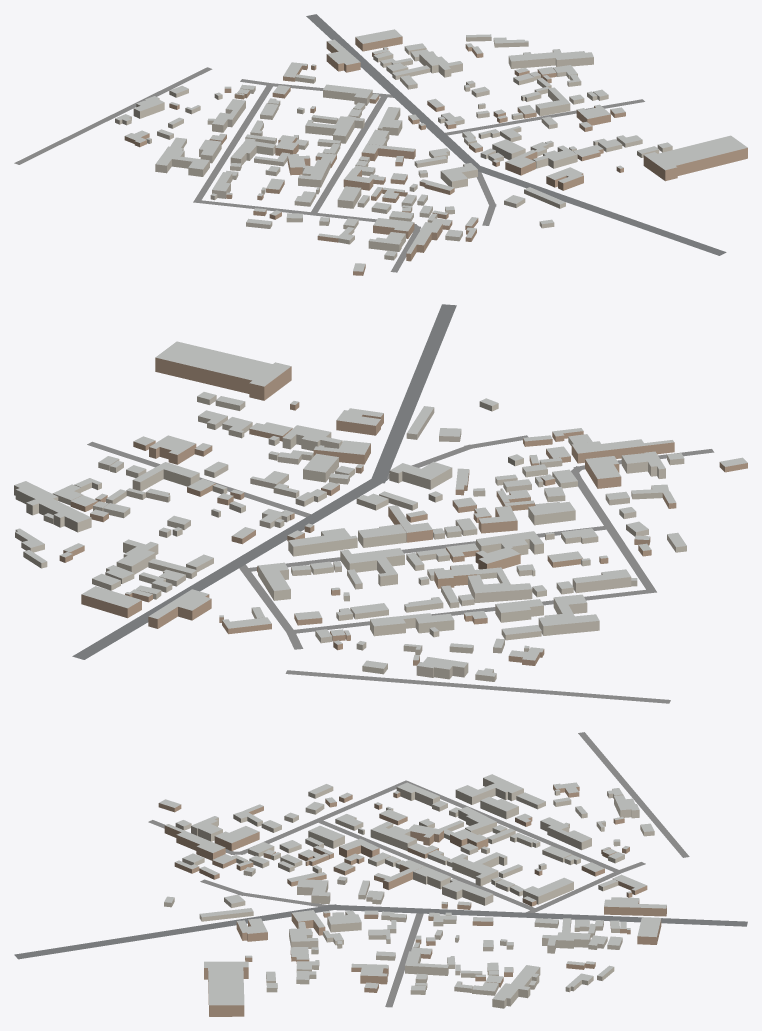
Rendered from bolak_-19_5.glb.
The picture shows the model from 3 angles, top to bottom: view 1: azimuth 30°, elevation 25°; view 2: azimuth 150°, elevation 25°; view 3: azimuth 270°, elevation 25°; orthographic projection. The views are drawn at different scales.
Parts seen in each view (by area): view 1: Tom_Shifer, Devor_Suvoq-col, Devor_Gisht-col, Yol_Mahalla, Yol_Asfalt; view 2: Tom_Shifer, Devor_Suvoq-col, Devor_Gisht-col, Yol_Mahalla, Yol_Asfalt; view 3: Tom_Shifer, Devor_Suvoq-col, Devor_Gisht-col, Yol_Mahalla, Yol_Asfalt.
Boxes of the visible parts, x1,y1,x2,y2 form: Tom_Shifer: [115, 29, 747, 271]; Devor_Suvoq-col: [115, 37, 672, 260]; Devor_Gisht-col: [124, 36, 747, 275]; Yol_Mahalla: [14, 67, 644, 272]; Yol_Asfalt: [306, 14, 726, 255]; Tom_Shifer: [14, 341, 747, 676]; Devor_Suvoq-col: [14, 395, 686, 681]; Devor_Gisht-col: [59, 357, 747, 665]; Yol_Mahalla: [87, 435, 714, 703]; Yol_Asfalt: [72, 304, 456, 659]; Tom_Shifer: [159, 774, 666, 1005]; Devor_Suvoq-col: [164, 778, 654, 1008]; Devor_Gisht-col: [158, 785, 666, 1016]; Yol_Mahalla: [148, 732, 689, 1007]; Yol_Asfalt: [14, 904, 747, 959].
Bounding box in the file's own units: 555 × 10.4 × 605.
